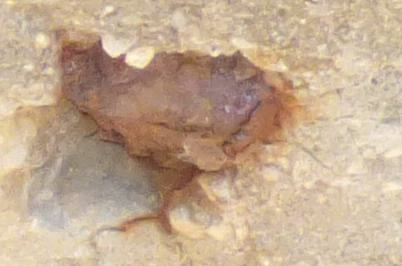Corrosion: (60, 33, 317, 234)
